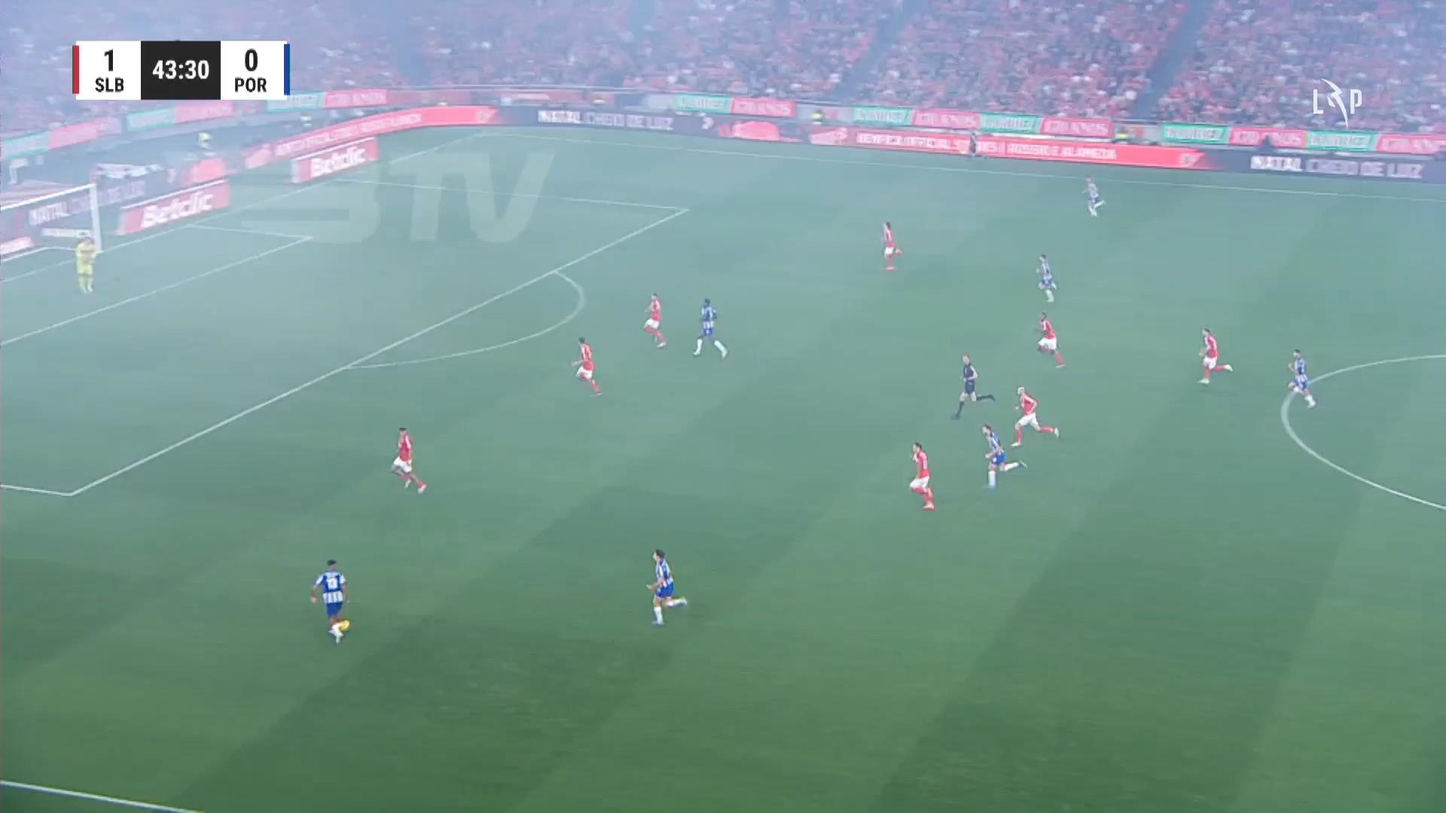ball: (337, 619, 350, 632)
goalkeeper: (74, 231, 97, 293)
player: (310, 558, 351, 644), (645, 547, 687, 625), (1009, 385, 1059, 447), (980, 423, 1027, 488), (389, 426, 427, 494), (691, 297, 728, 358), (1197, 327, 1232, 384), (908, 440, 935, 510), (570, 336, 602, 395), (1286, 348, 1316, 407), (1036, 310, 1066, 367), (642, 292, 666, 348), (1035, 252, 1057, 303), (880, 220, 902, 270), (1081, 175, 1105, 217)
referee: (950, 353, 995, 419), (965, 127, 987, 164)
